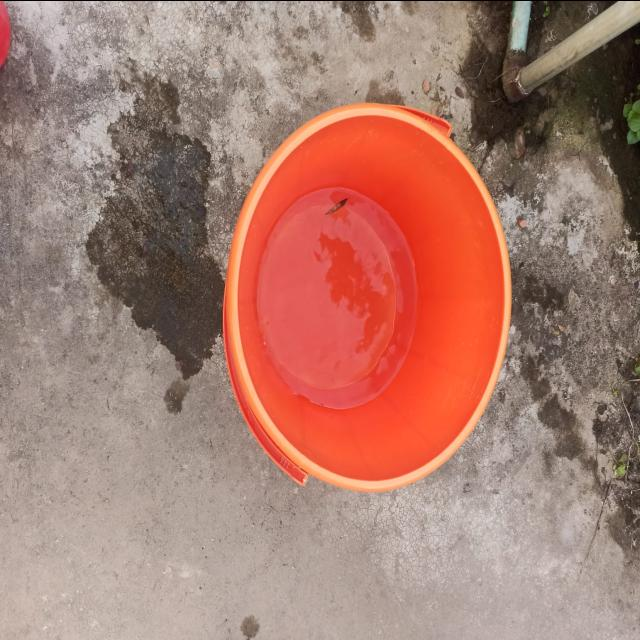Breeding Place: (199, 54, 524, 520)
